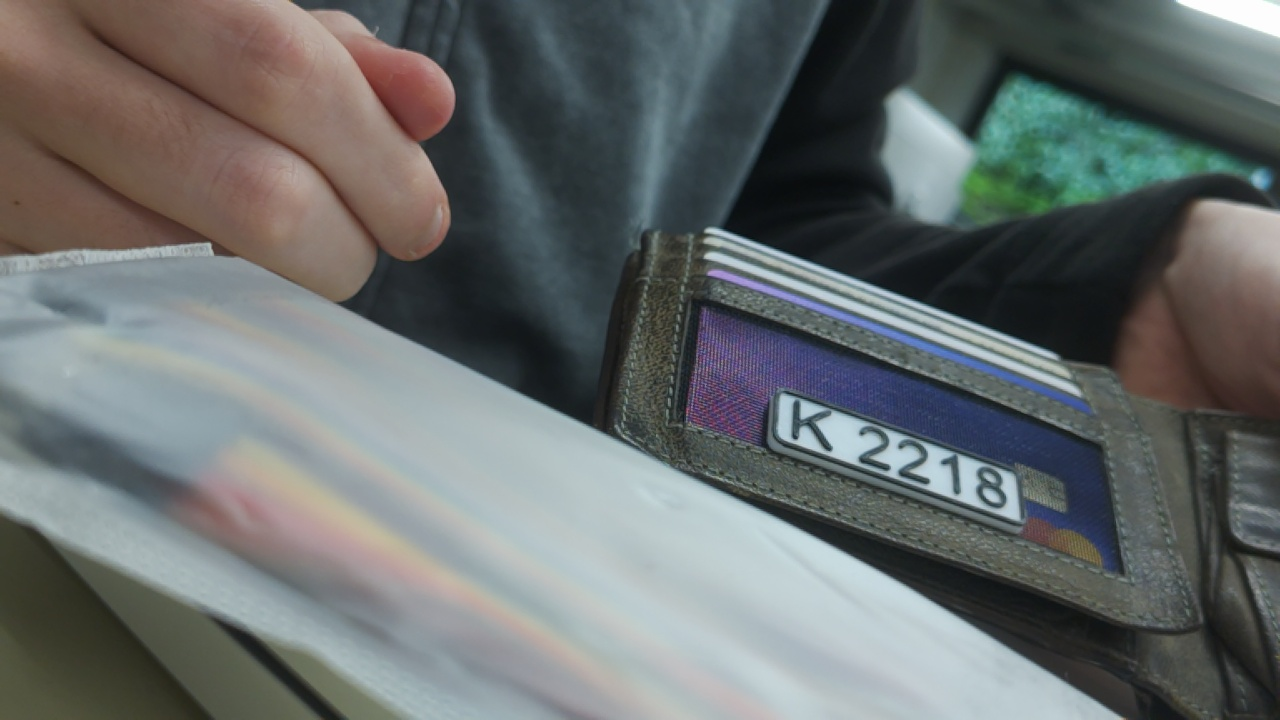license_plate: (757, 383, 1042, 542)
